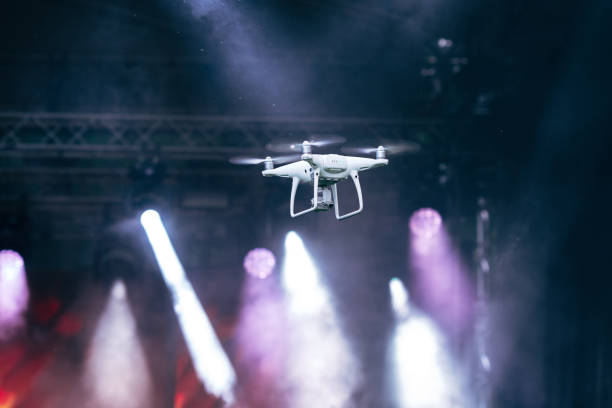Drone: (226, 132, 429, 228)
